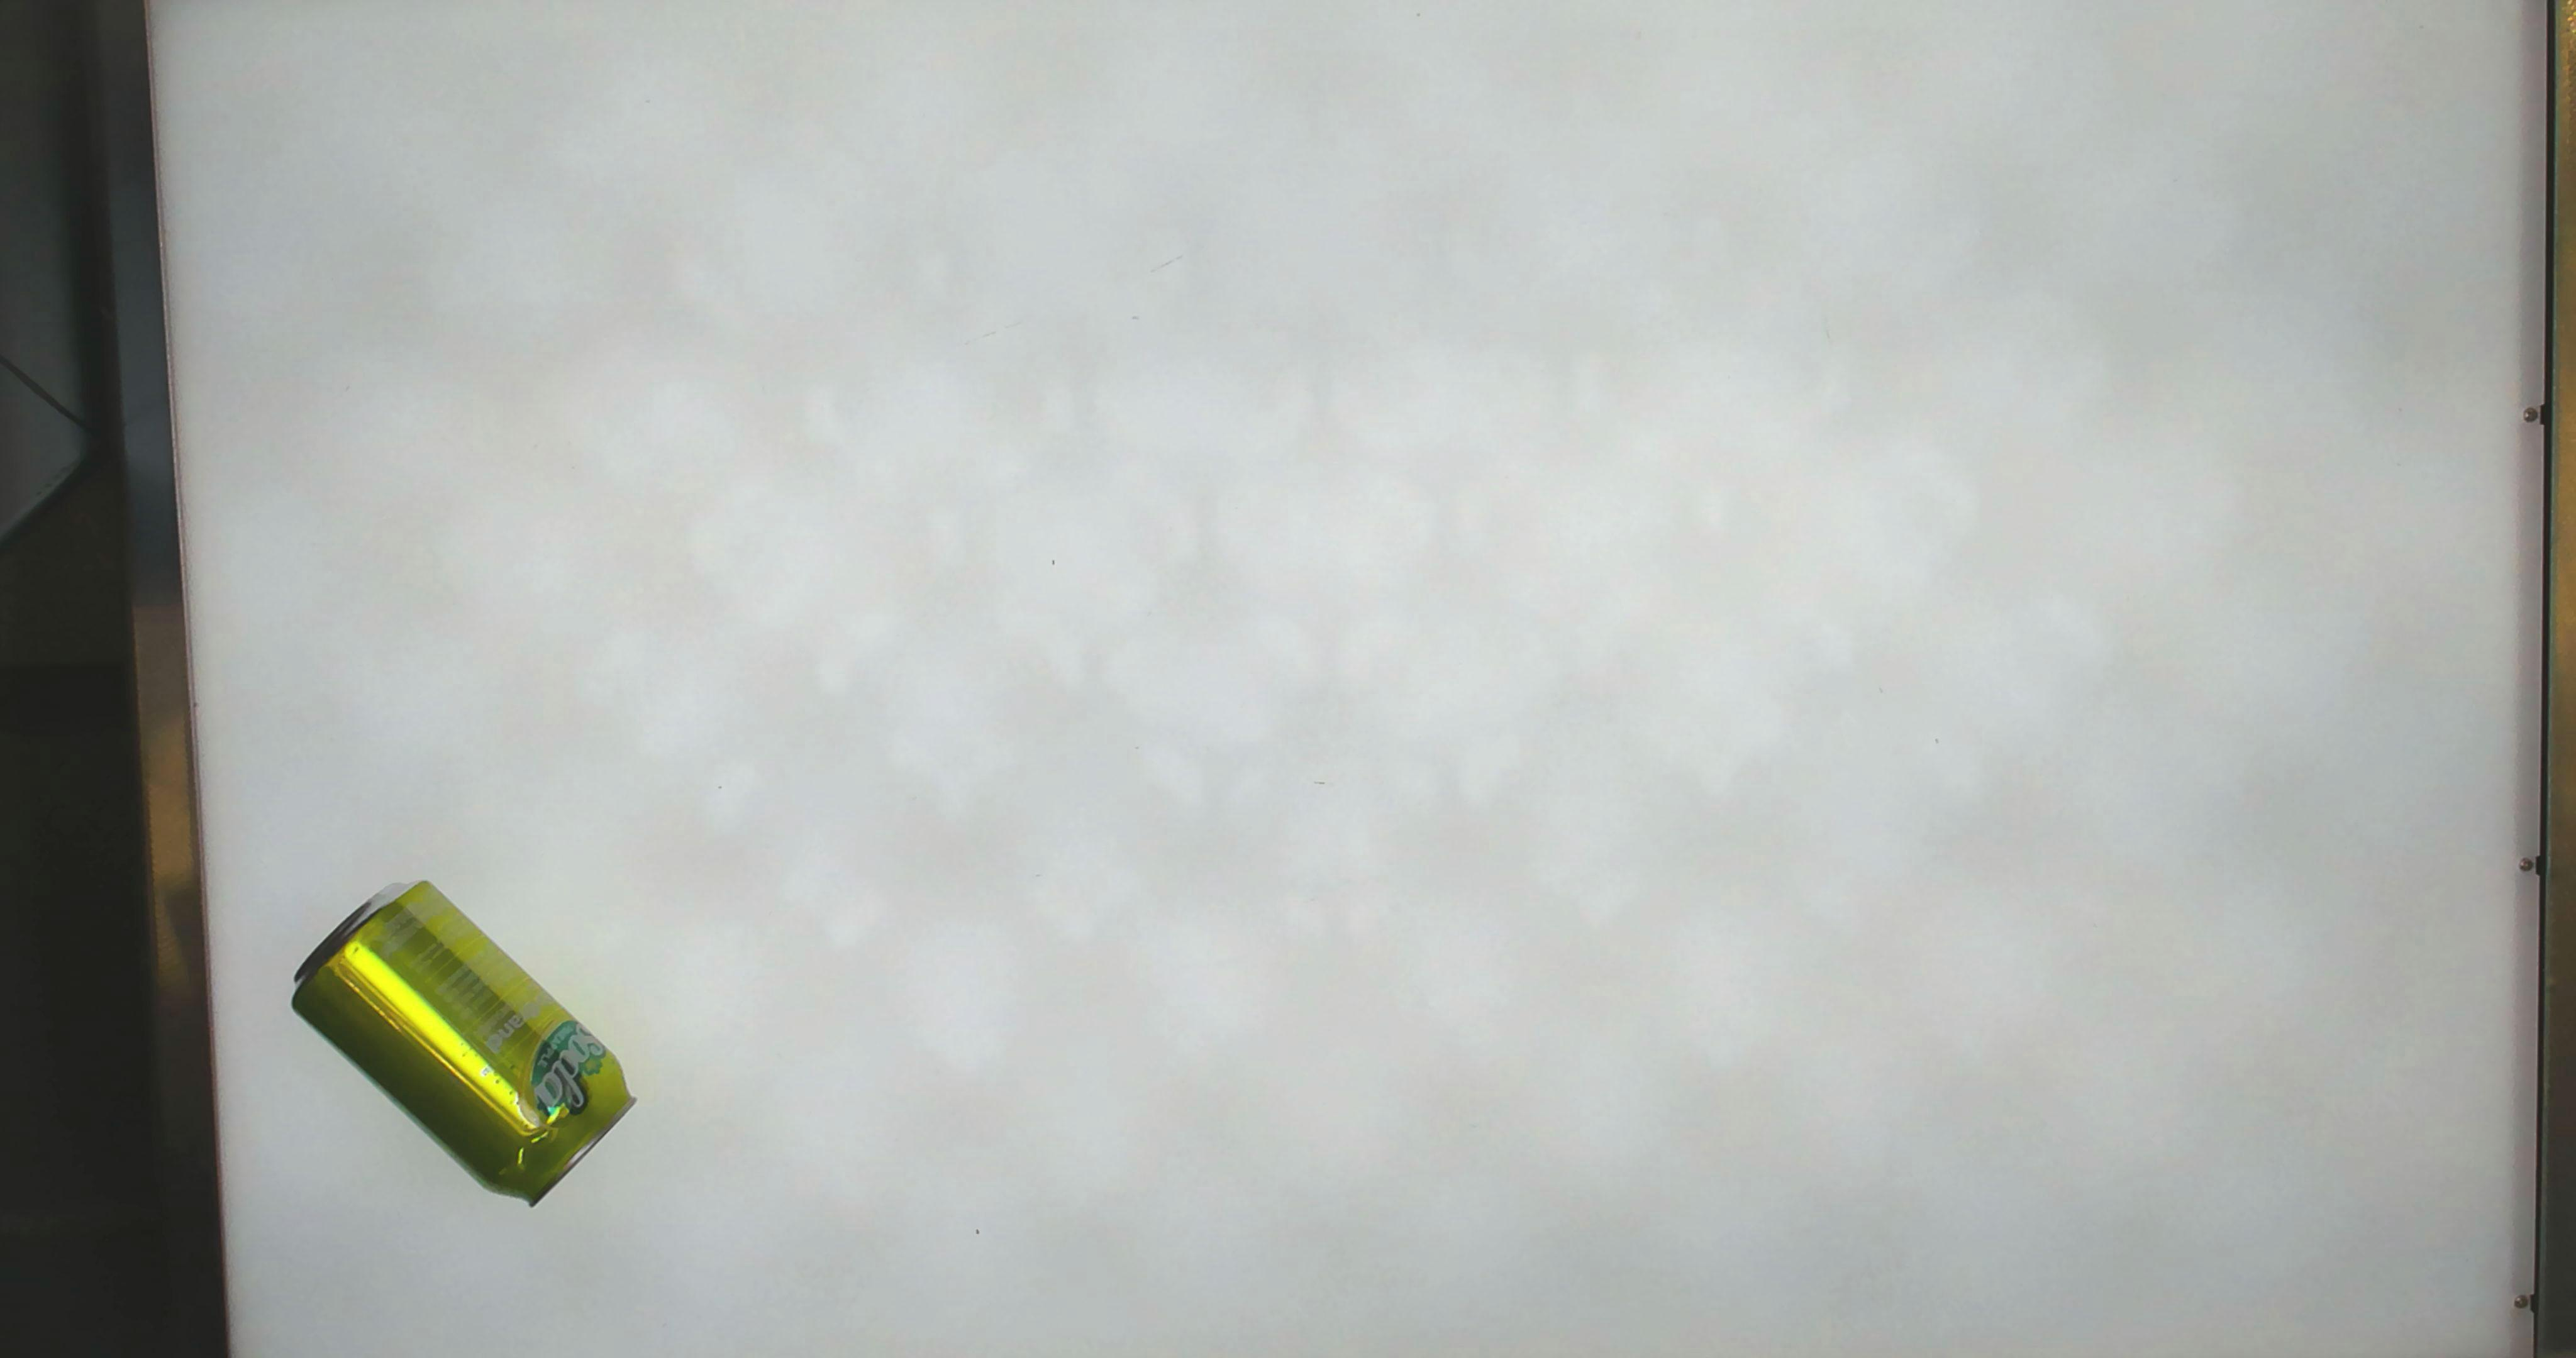product: (286, 874, 635, 1206)
